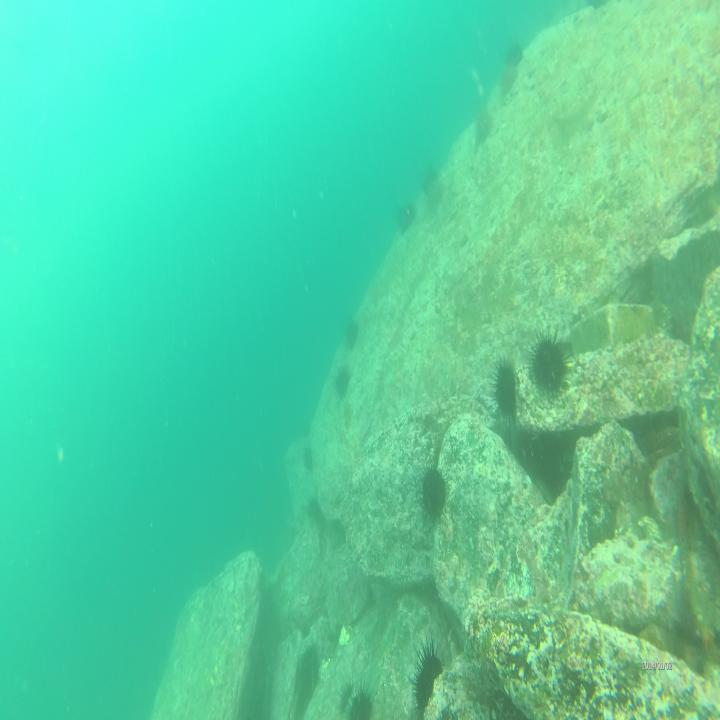echinus: (524, 330, 570, 398), (408, 637, 444, 718), (416, 460, 450, 526), (490, 356, 521, 426), (342, 678, 374, 720), (474, 109, 492, 146), (333, 365, 352, 398), (498, 62, 516, 96), (398, 199, 417, 231), (420, 164, 439, 195), (342, 316, 360, 346), (507, 43, 525, 65), (301, 446, 314, 472)
